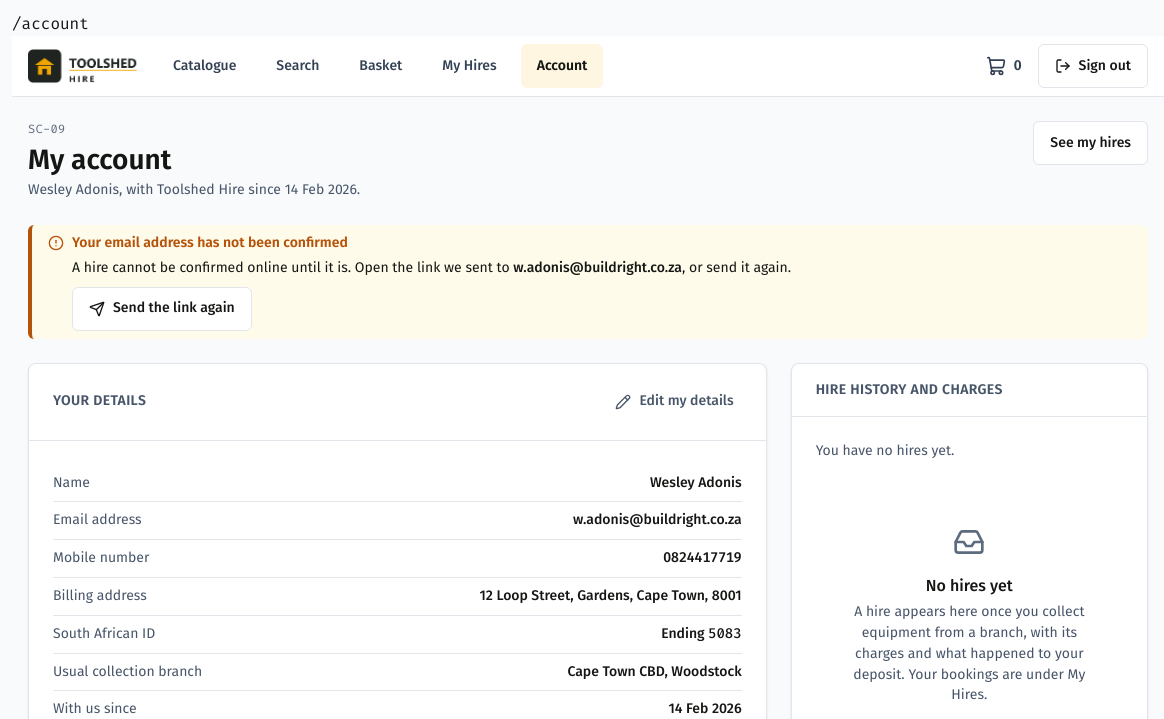
it: an email address that is not confirmed › says plainly when the link cannot reach the address, and what can still be done
What coordinates should you click on to do the following:
click the button "Send the link again"
I would click on:
 (162, 309)
Its box is [72,287,252,331].
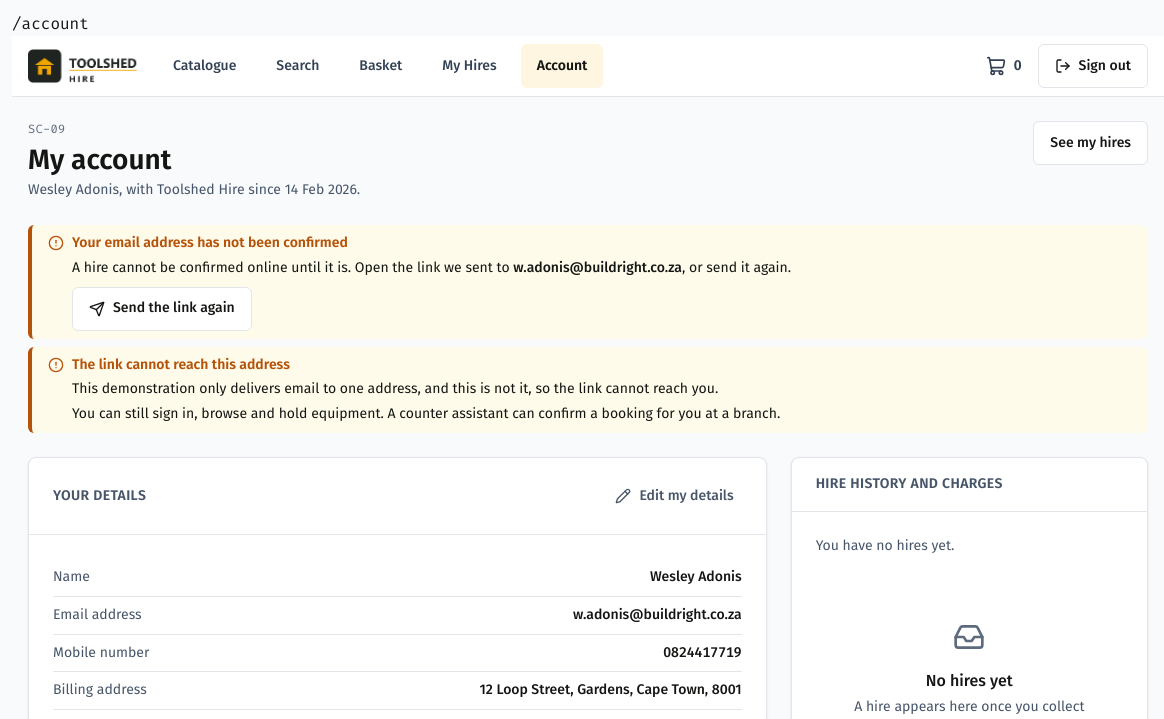
Result: the text "This demonstration only delivers email to one address, and this is not it, so the link cannot reach you." is shown at [72,380,718,397]
Result: the text "You can still sign in, browse and hold equipment. A counter assistant can confirm a booking for you at a branch." is shown at [72,405,780,422]
